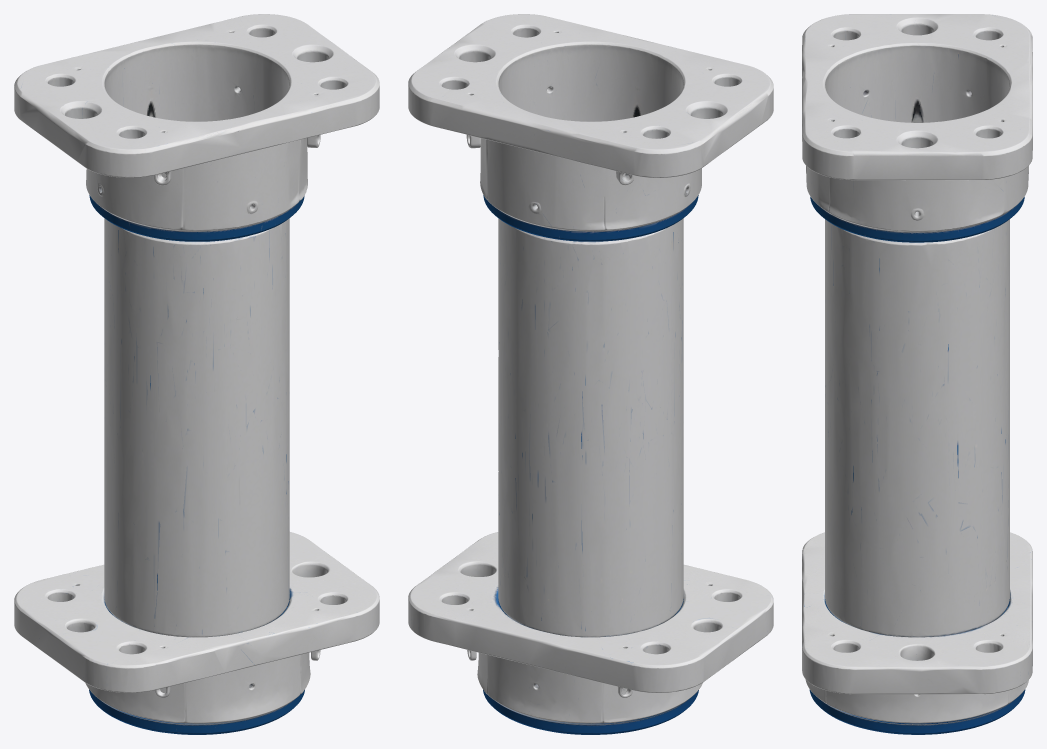
The model's file is VerticalSupport_Senhance.fbx.
3 views of the same model, side by side, from view 1: azimuth 30°, elevation 25°; view 2: azimuth 150°, elevation 25°; view 3: azimuth 270°, elevation 25° (orthographic).
Visible parts, largest first — view 1: Mesh_0; view 2: Mesh_0; view 3: Mesh_0.
Boxes of the visible parts, left/top/right/bottom form: Mesh_0: left=14, top=14, right=379, bottom=734; Mesh_0: left=408, top=14, right=773, bottom=734; Mesh_0: left=802, top=14, right=1032, bottom=734.
Size of the model in its own units: 94.68 by 190 by 65.52.
Materials: 1 (1 with a texture image).
